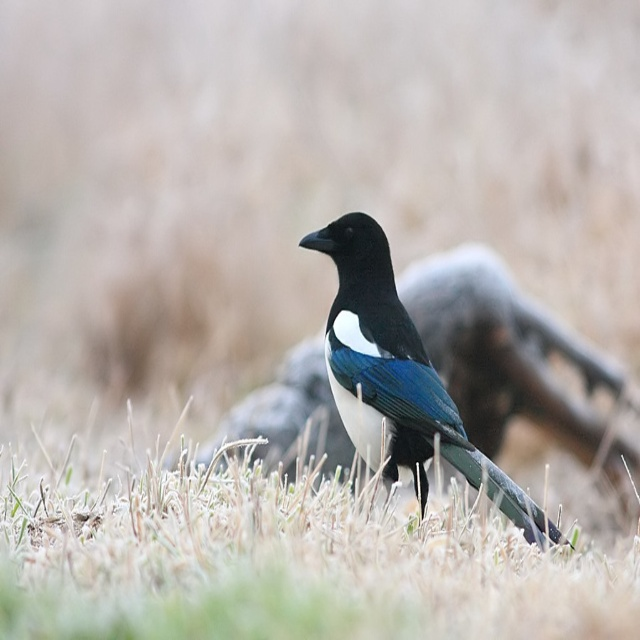Magpie: (299, 212, 572, 555)
